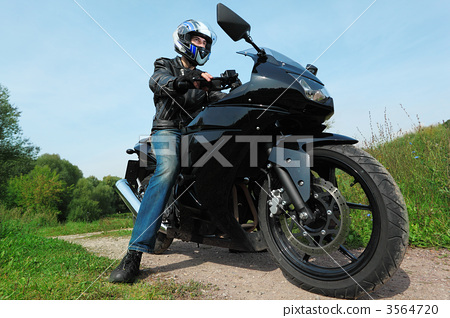helmet: (171, 17, 217, 64)
